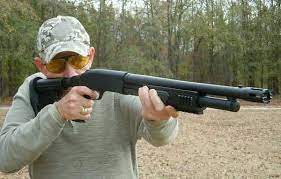weapon: (29, 70, 271, 119)
